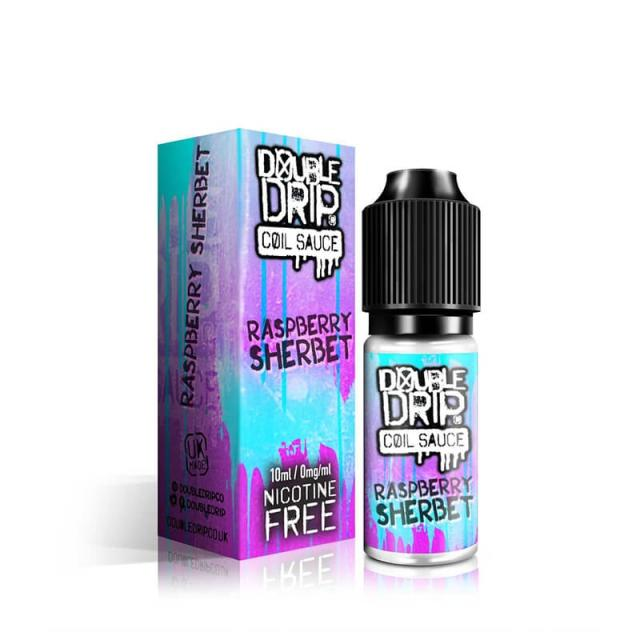Vape-images: (155, 127, 358, 562), (360, 166, 482, 566)
